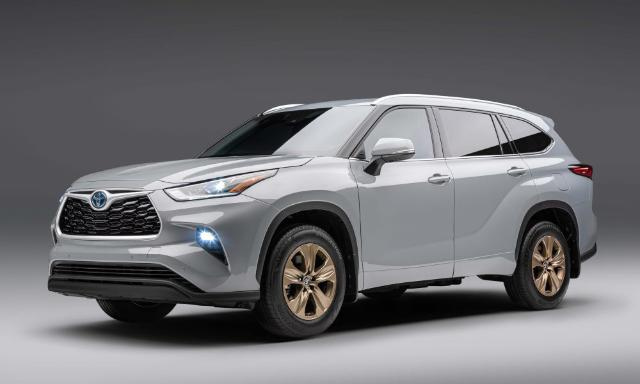toyota: (47, 94, 598, 338)
